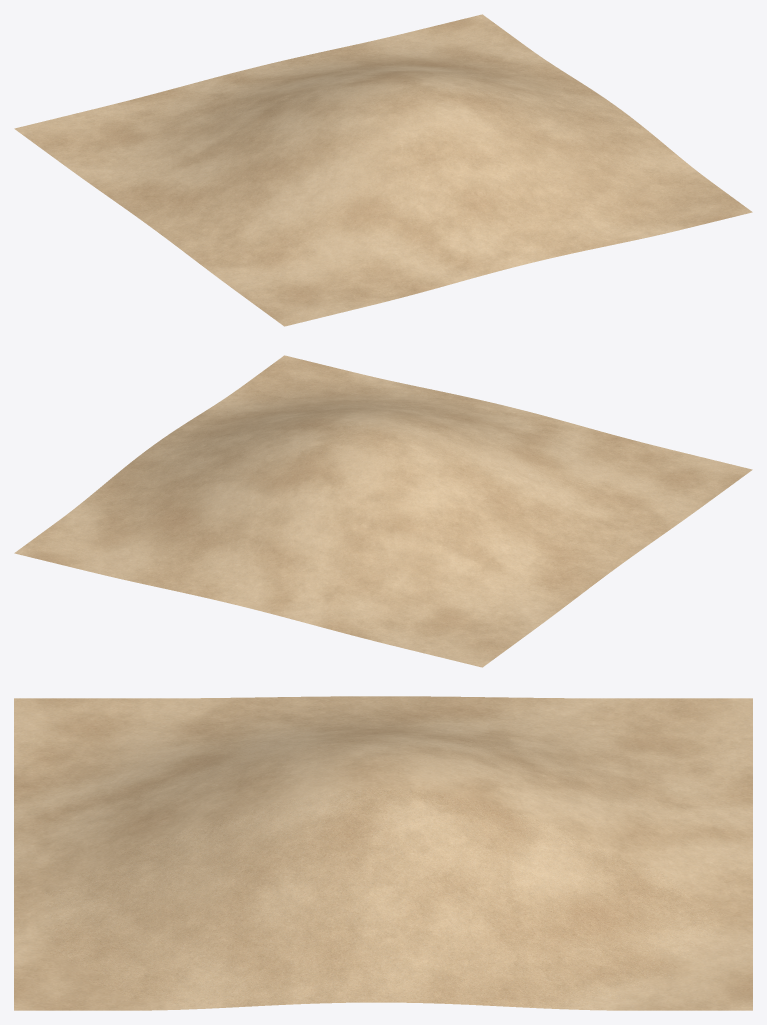
File: beach_island.glb
3 views of the same model, one above another, from view 1: azimuth 30°, elevation 25°; view 2: azimuth 150°, elevation 25°; view 3: azimuth 270°, elevation 25° (orthographic). The views are drawn at different scales.
Visible parts, largest first — view 1: Plane; view 2: Plane; view 3: Plane.
Boxes of the visible parts, bbox=[...] form: Plane: bbox=[14, 14, 752, 326]; Plane: bbox=[14, 355, 752, 667]; Plane: bbox=[14, 696, 752, 1010].
Bounding box in the file's own units: 100 × 13.94 × 100.
Materials: 1 (1 with a texture image).
